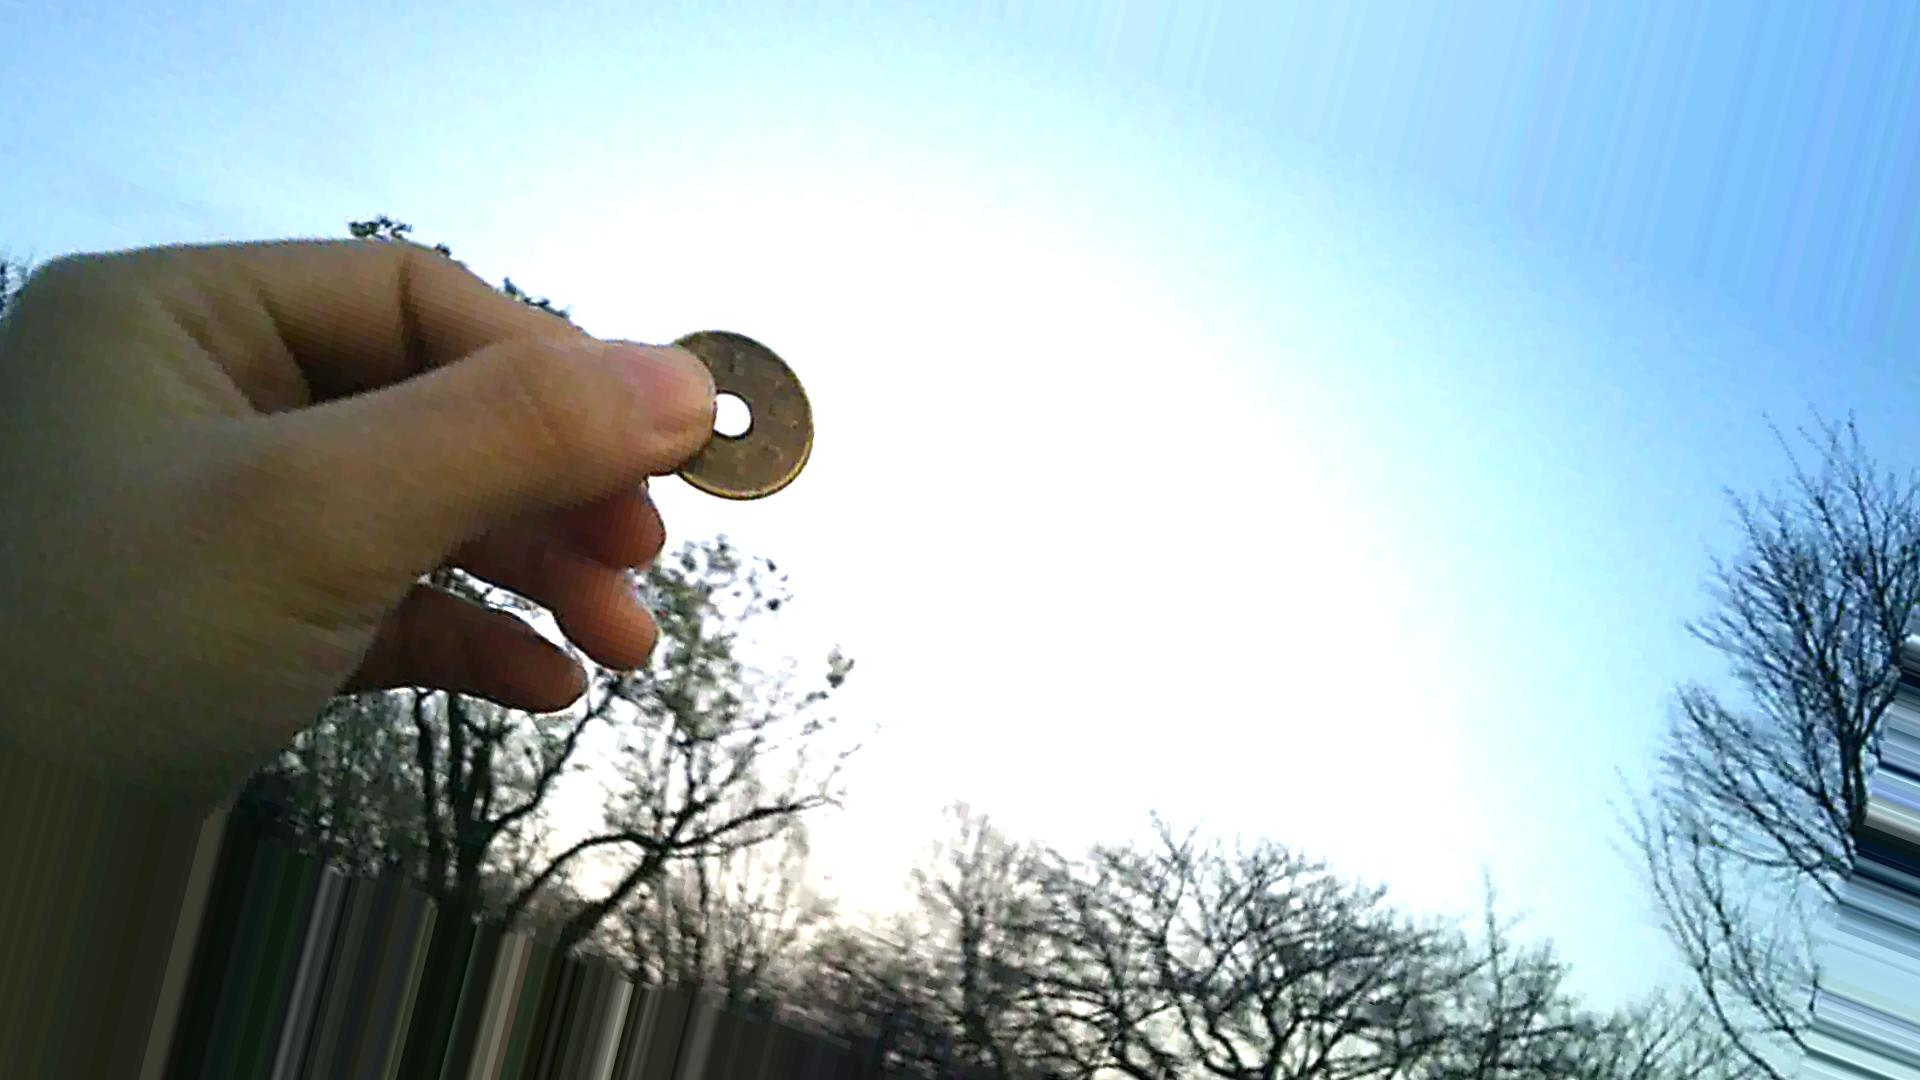5 Yen: (647, 313, 843, 530)
